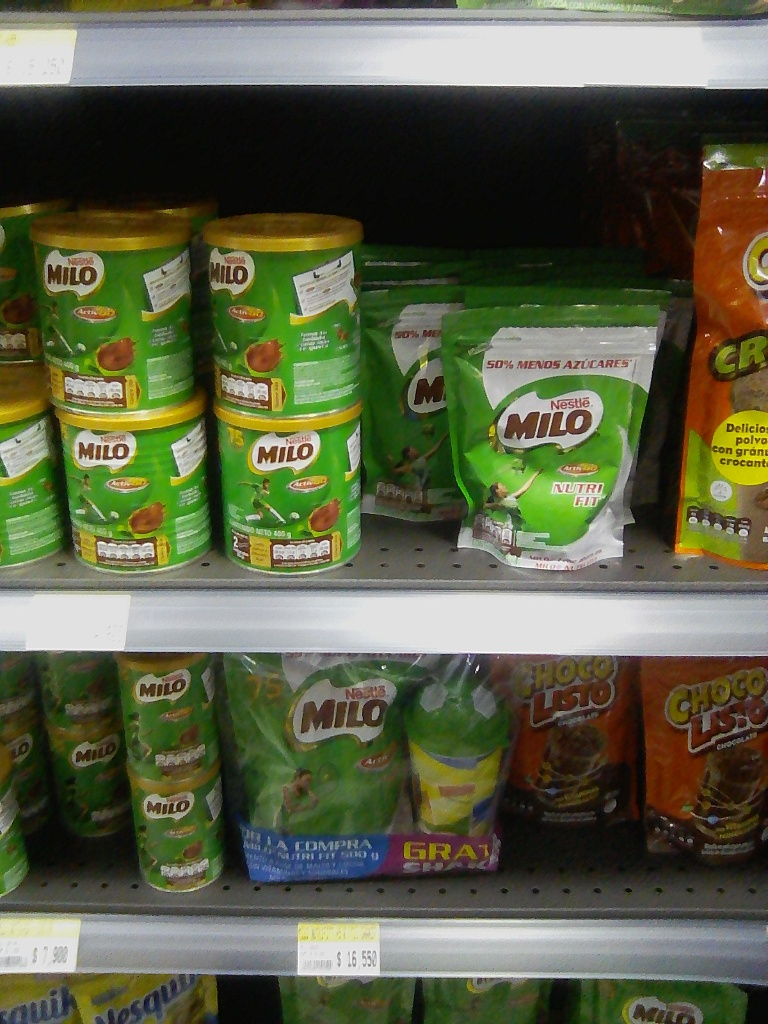COL0170103DYP20000: (639, 658, 767, 853)
COL0170203LAT20000: (108, 650, 219, 772)
COL0170203LAT40000: (207, 214, 369, 416)
COL0170205DYP20000: (443, 307, 660, 578)
COL0170205DYP50000: (231, 662, 407, 838)
